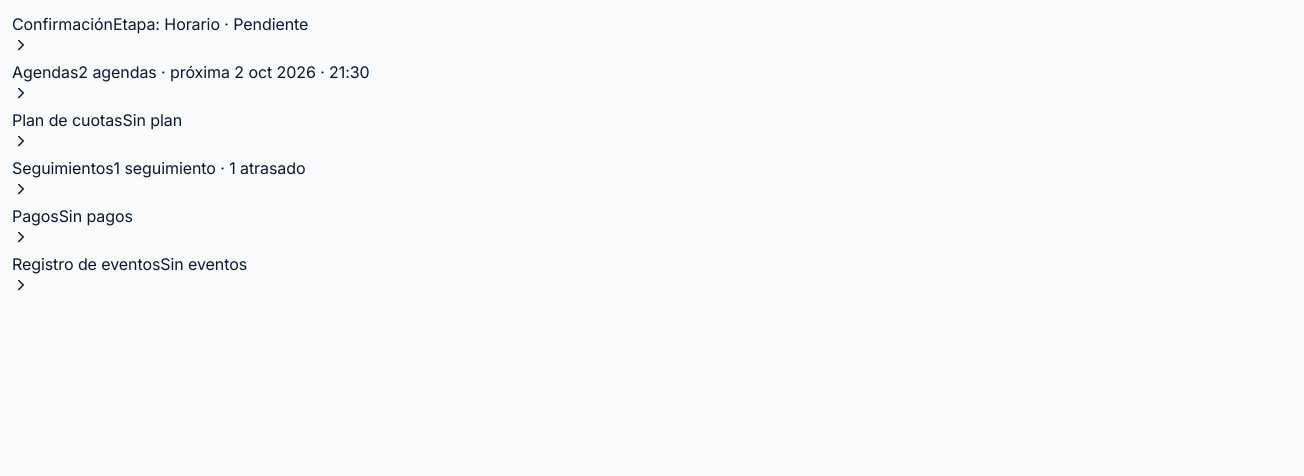
Scenario: los seguimientos del historial › la fila dice el día, la nota, el tipo, el intento y de qué agenda es
This screenshot has width=1304, height=476.
Click the button "Seguimientos1 seguimiento · 1 atrasado": point(159, 177) [12, 156, 305, 198]
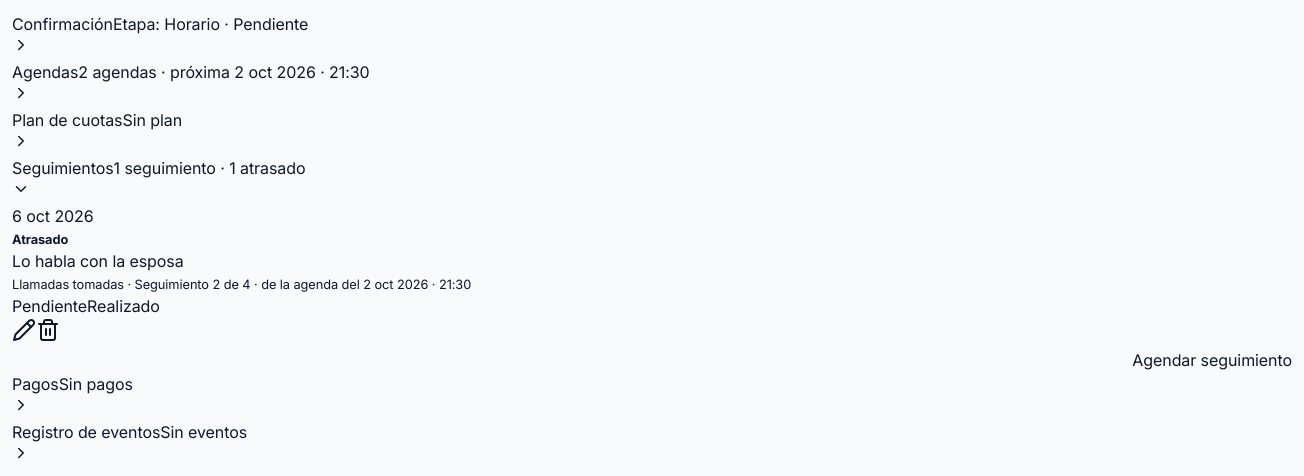
Expected: the text "6 oct 2026" is shown, [12, 206, 94, 226]
Expected: the text "Lo habla con la esposa" is shown, [12, 251, 184, 271]
